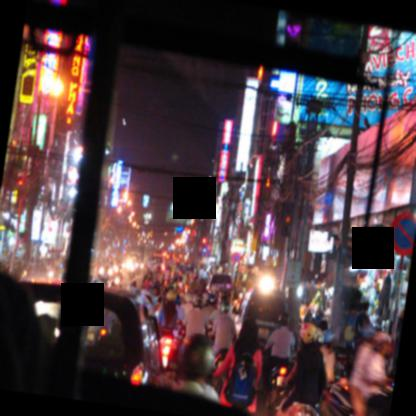backpack: (224, 340, 258, 408), (293, 345, 325, 409)
